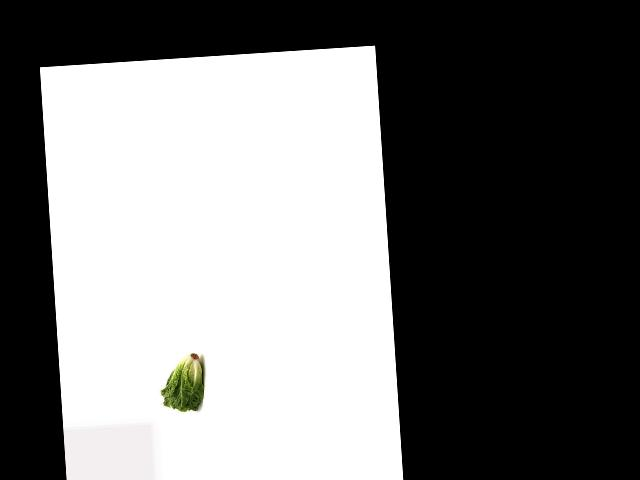lettuce: (158, 350, 206, 413)
